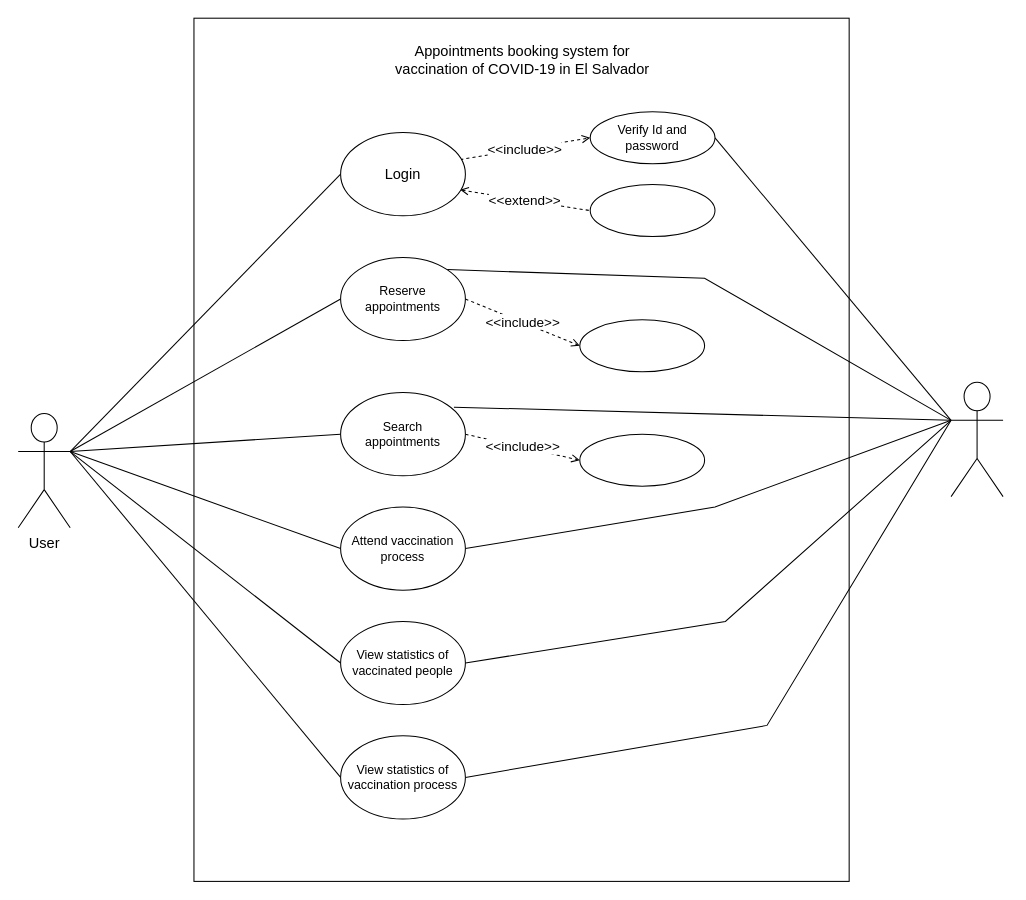
This 1026x900 diagram has some shape labels left out. The box of each missing label's shape, as (x1, y1, x2, y2) in pixels:
Database: (950, 381, 1003, 497)
Display login error: (589, 184, 715, 237)
Verify DUI: (579, 433, 705, 486)
Verify schedule: (579, 319, 705, 372)
